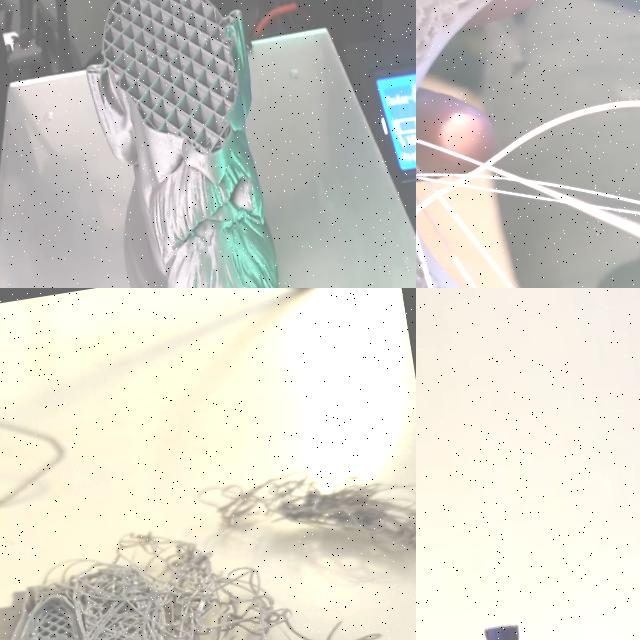spaghetti: (416, 0, 640, 288), (0, 497, 377, 640), (207, 433, 416, 589)
